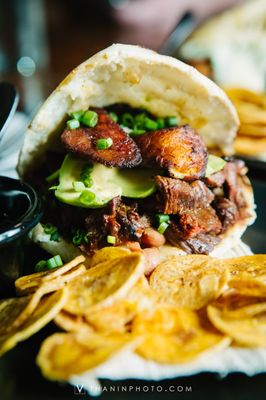soup: (14, 42, 254, 260)
